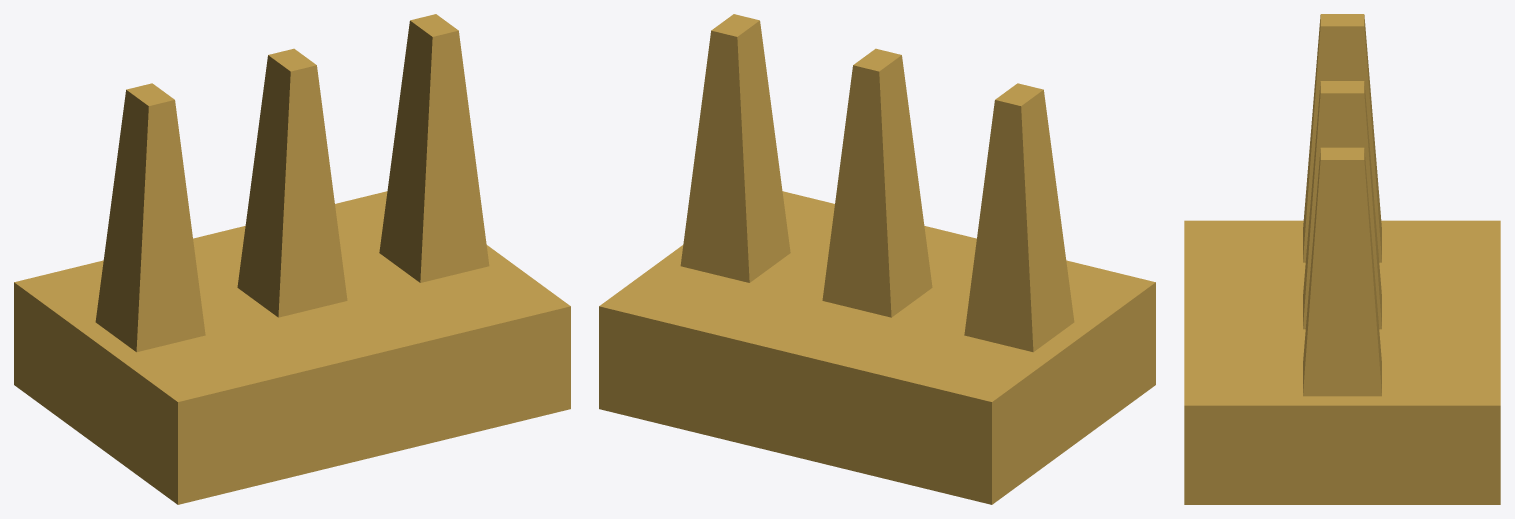
The model's file is wk_shell_head_crown_band_v01.glb.
The picture shows the model from 3 angles, left to right: view 1: azimuth 30°, elevation 25°; view 2: azimuth 150°, elevation 25°; view 3: azimuth 270°, elevation 25°; orthographic projection. The views are drawn at different scales.
Visible parts, largest first — view 1: GEO_CrownBand, GEO_CrownPoint0, GEO_CrownPoint1, GEO_CrownPoint2; view 2: GEO_CrownBand, GEO_CrownPoint0, GEO_CrownPoint1, GEO_CrownPoint2; view 3: GEO_CrownBand, GEO_CrownPoint2, GEO_CrownPoint1, GEO_CrownPoint0.
Boxes of the visible parts, box(x1,y1,x2,y2) form: GEO_CrownBand: box(14, 191, 570, 504); GEO_CrownPoint0: box(95, 83, 205, 352); GEO_CrownPoint1: box(237, 48, 347, 317); GEO_CrownPoint2: box(379, 14, 489, 282); GEO_CrownBand: box(599, 191, 1155, 504); GEO_CrownPoint0: box(964, 83, 1074, 352); GEO_CrownPoint1: box(822, 48, 932, 317); GEO_CrownPoint2: box(680, 14, 790, 282); GEO_CrownBand: box(1184, 220, 1500, 504); GEO_CrownPoint2: box(1303, 147, 1381, 396); GEO_CrownPoint1: box(1303, 81, 1381, 329); GEO_CrownPoint0: box(1303, 14, 1381, 262).
Bounding box in the file's own units: 0.18 × 0.1475 × 0.13.
